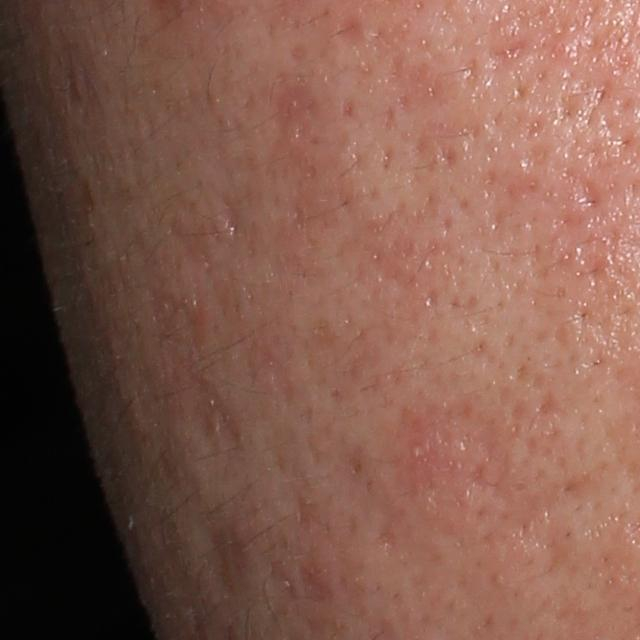atrophic_scar: (520, 524, 576, 572), (191, 385, 236, 444), (213, 520, 250, 589), (570, 167, 607, 212), (489, 38, 534, 68), (214, 201, 244, 237), (339, 11, 369, 46), (461, 56, 486, 91)
